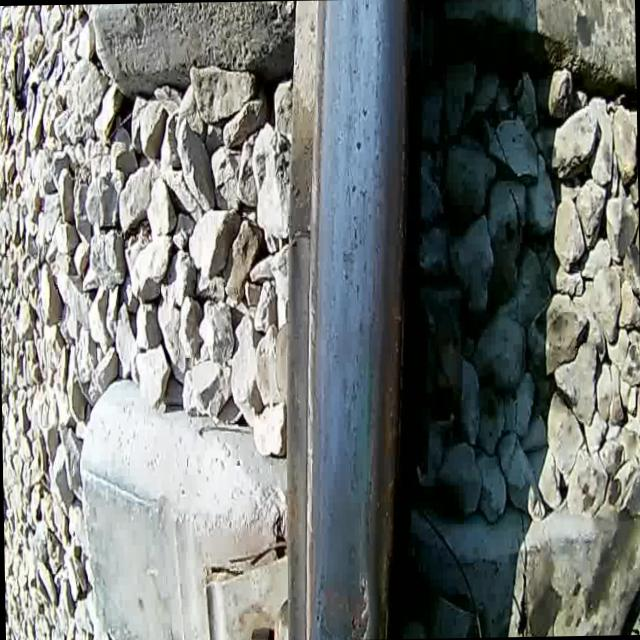Cracks: (346, 572, 372, 640), (313, 541, 330, 625)
Squats: (306, 561, 379, 640)
